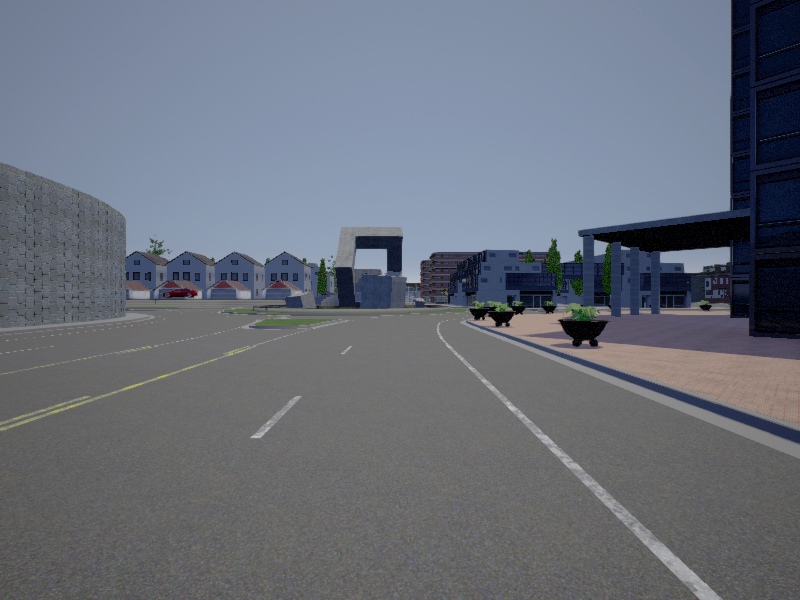Attacker: (163, 287, 198, 299)
